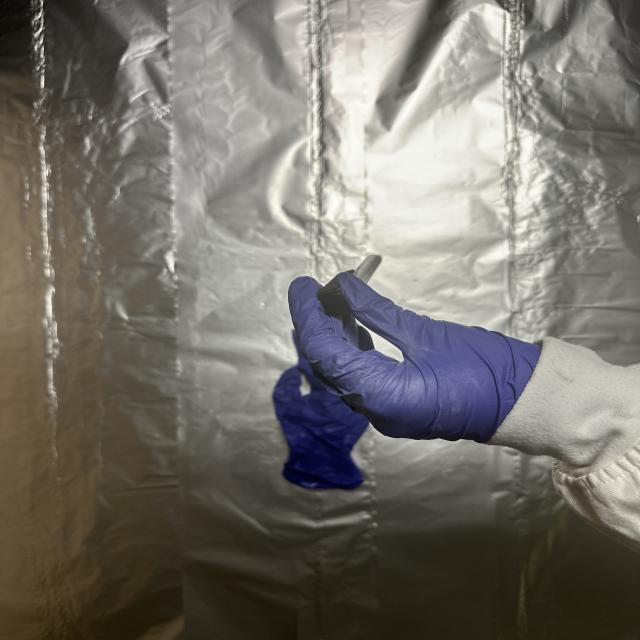gloves_contaminated: (289, 274, 541, 443)
